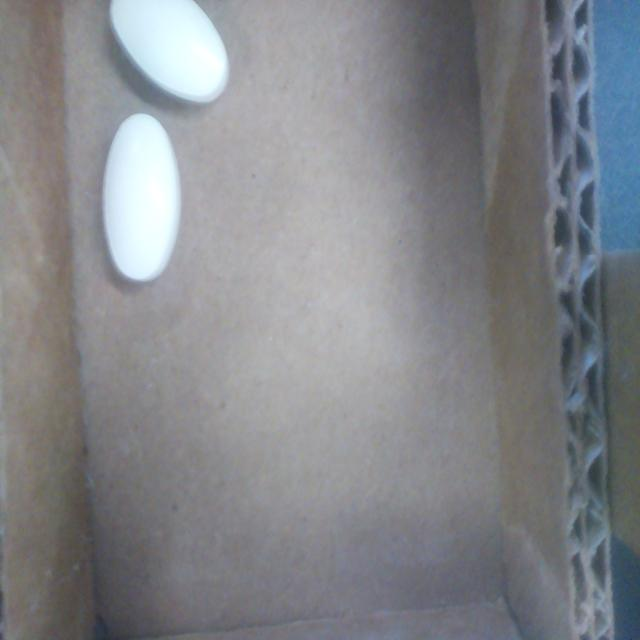pill: (104, 114, 181, 288), (109, 0, 229, 103)
